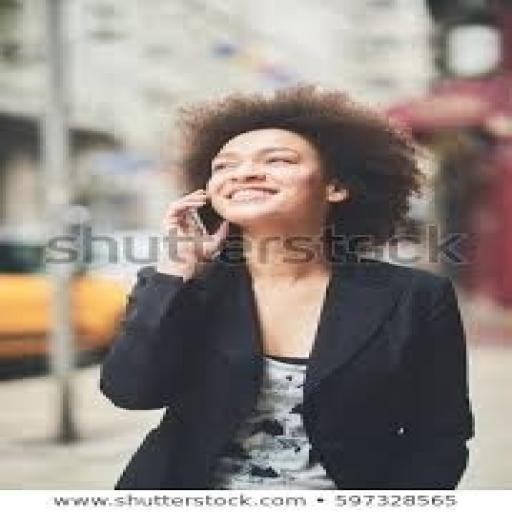calling: (94, 84, 478, 490)
